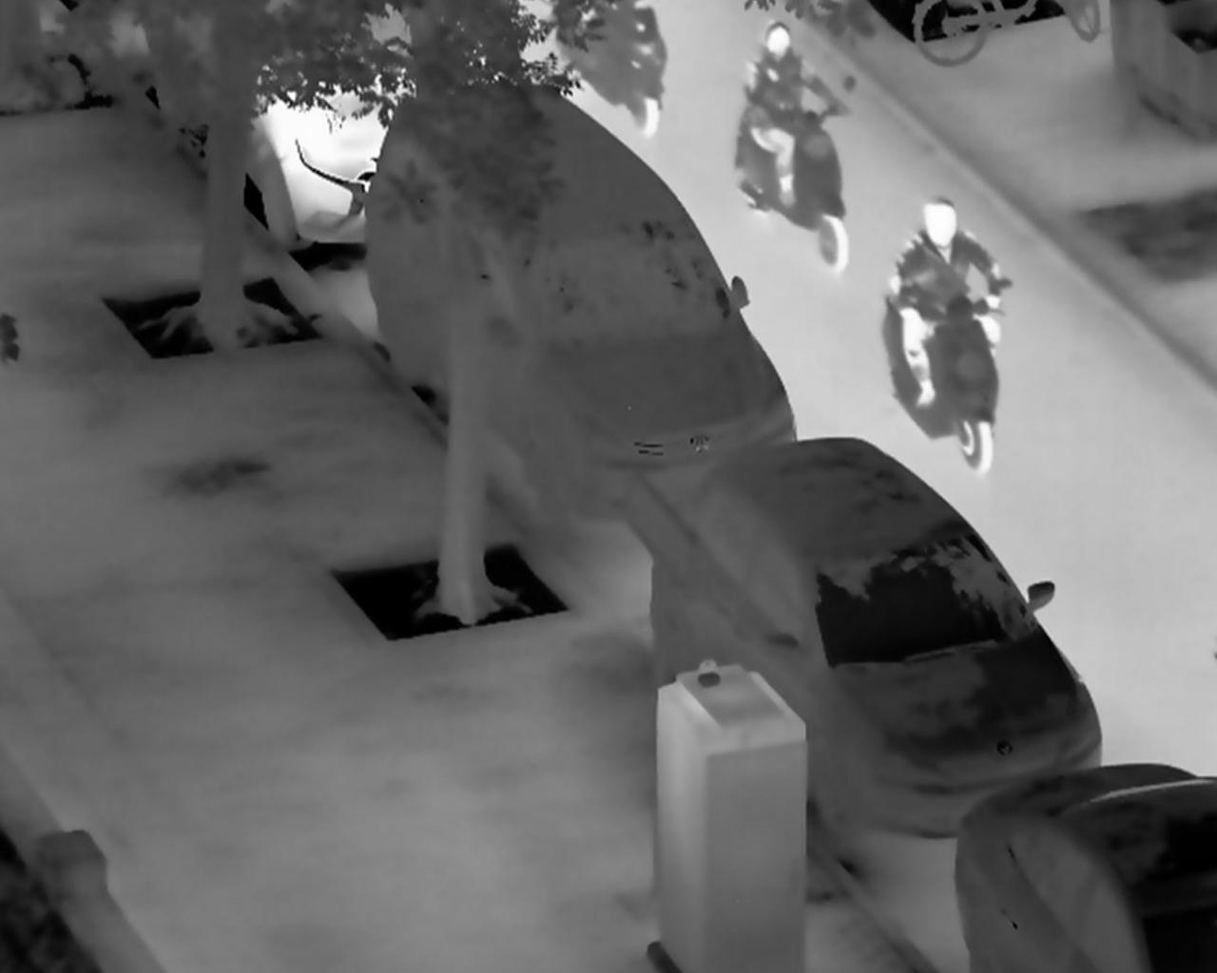person: (890, 194, 1005, 412), (741, 17, 854, 219)
